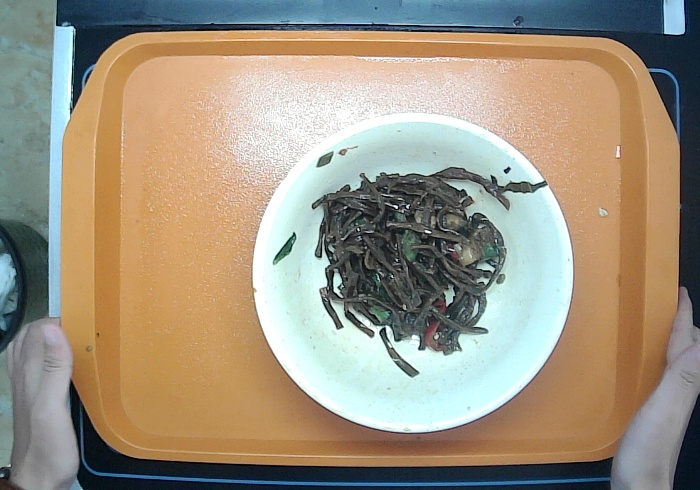ZNLD-Da_Tang_Wan: (249, 110, 576, 435)
